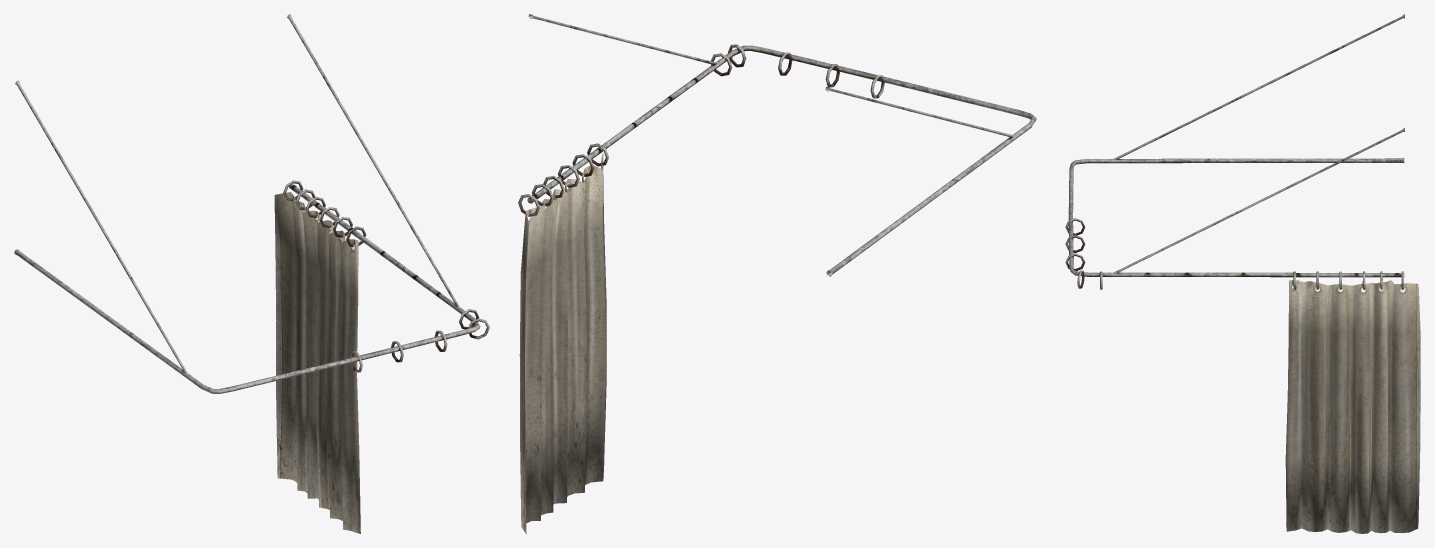
The model's file is Curtain2_Fixed.fbx.
3 views of the same model, side by side, from view 1: azimuth 30°, elevation 25°; view 2: azimuth 150°, elevation 25°; view 3: azimuth 270°, elevation 25° (orthographic). The views are drawn at different scales.
Visible parts, largest first — view 1: Curtain; view 2: Curtain; view 3: Curtain.
Part boxes in pixels (x1,y1,x2,y2): Curtain: (14, 14, 489, 533); Curtain: (518, 14, 1036, 533); Curtain: (1065, 14, 1420, 533).
Size of the model in its own units: 520 by 811 by 648.
1 material, 1 textured.
